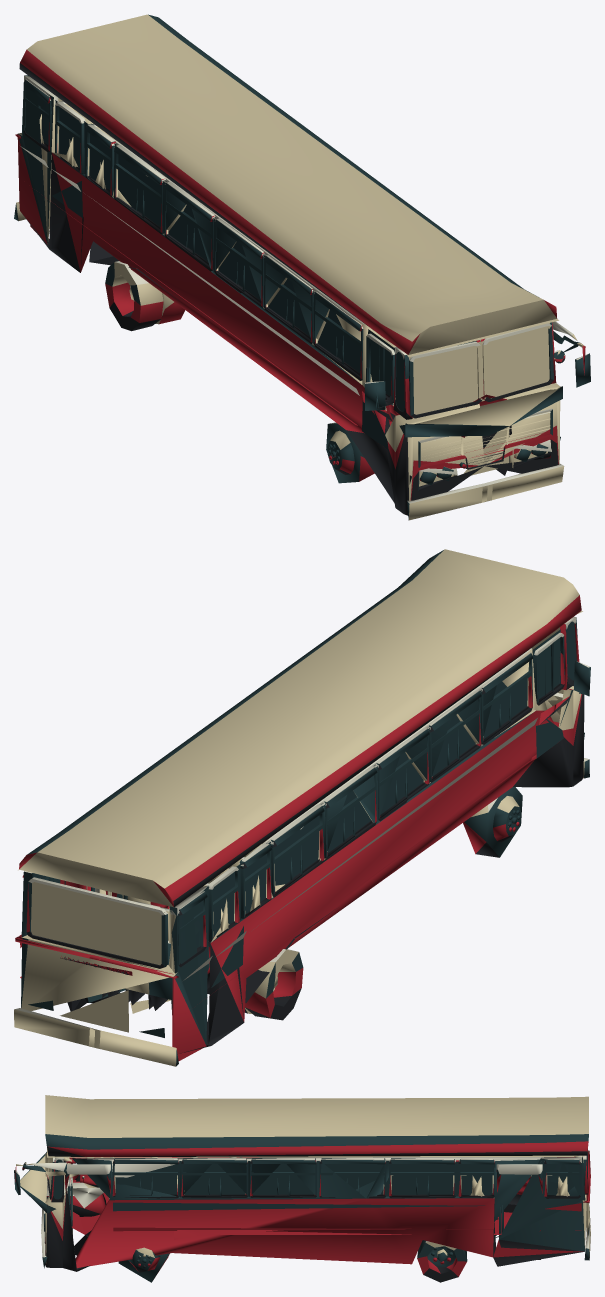
File: sri_lanka_bus_lod.glb
The picture shows the model from 3 angles, top to bottom: view 1: azimuth 30°, elevation 25°; view 2: azimuth 150°, elevation 25°; view 3: azimuth 270°, elevation 25°; orthographic projection. The views are drawn at different scales.
Visible parts, largest first — view 1: Cube.047, Cube, Plane.003, Plane.001, Cylinder.026, Cube.067, Cube.062, Cube.024, Cube.023, Cube.038, Cylinder.003, Cube.035 (+10 smaller); view 2: Cube.047, Cube, Plane.001, Plane.007, Cube.071, Cylinder.026, Cube.025, Cylinder.003, Cube.154, Cube.062, Cube.038, Plane.005 (+11 smaller); view 3: Cube, Cube.047, Plane, Cube.053, Cube.048, Cylinder.026, Cube.022, Cube.049, Cube.068, Cube.004, Cube.014, Cube.001 (+18 smaller).
Part boxes in pixels (x1,y1,x2,y2): Cube.047: (19,14,557,354); Cube: (17,75,562,515); Plane.003: (409,323,549,414); Plane.001: (38,96,360,372); Cylinder.026: (105,261,185,331); Cube.067: (407,464,564,520); Cube.062: (20,146,392,421); Cube.024: (409,341,482,418); Cube.023: (482,323,553,401); Cube.038: (113,144,165,234); Cylinder.003: (326,422,374,483); Cube.035: (164,181,215,271); Cube.047: (19,549,581,907); Cube: (21,648,584,1060); Plane.001: (195,679,527,947); Plane.007: (30,879,164,965); Cube.071: (14,1008,178,1066); Cylinder.026: (244,949,303,1020); Cube.025: (26,877,167,968); Cylinder.003: (463,787,522,857); Cube.154: (60,990,128,1032); Cube.062: (183,695,570,980); Cube.038: (269,804,324,897); Plane.005: (532,629,560,698); Cube: (20,1150,588,1271); Cube.047: (45,1095,588,1156); Plane: (115,1161,493,1195); Cube.053: (113,1202,581,1211); Cube.048: (46,1171,540,1259); Cylinder.026: (417,1240,467,1282); Cube.022: (47,1148,584,1157); Cube.049: (113,1227,493,1231); Cube.068: (46,1182,106,1216); Cube.004: (181,1158,248,1198); Cube.014: (389,1158,455,1198); Cube.001: (112,1158,179,1198).
Size of the model in its own units: 2.78 by 2.92 by 10.5.
